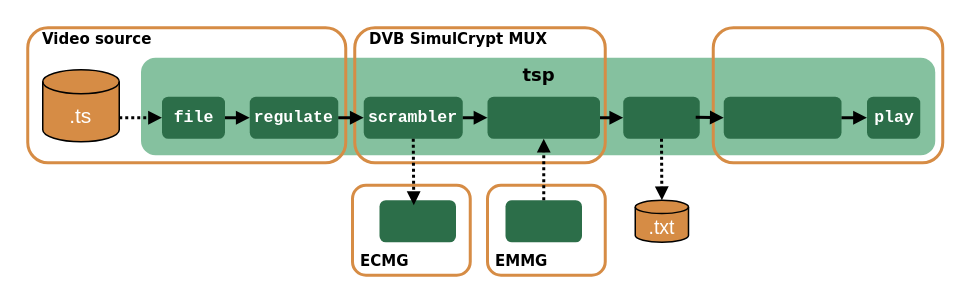
This 969x302 diagram has some shape labels left out. The shapes that lost their labels are listed below. From the top down, each one's box as (x1, y1, x2, y2) in pixels, then its label:
(711, 26, 944, 164): STB
(487, 96, 599, 138): datainject
(622, 96, 699, 138): analyze
(723, 96, 841, 138): descrambler
(379, 200, 455, 242): tsecmg
(505, 200, 581, 242): tsemmg
